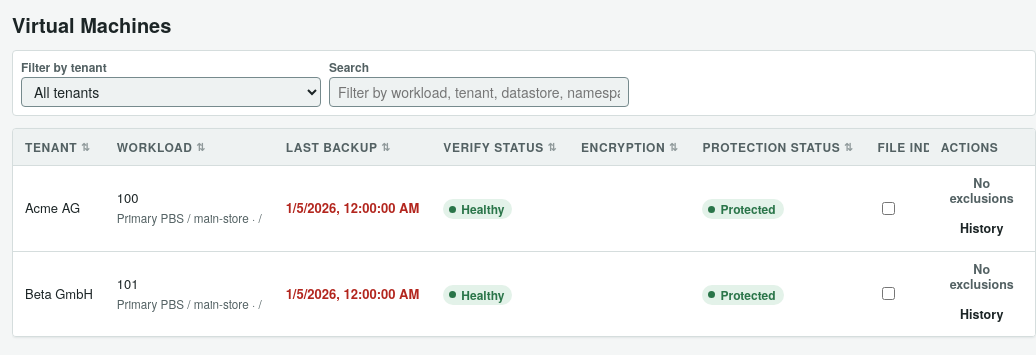
Test: ProtectedWorkloadsPage › filters rows by a free-text search across workload, customer, and datastore
The image size is (1036, 355).
Check: the text "100" is shown, box [117,188,138,207]
Check: the text "101" is shown, box [117,274,138,293]
In the field labelled "Search": {"x": 479, "y": 92} [329,77,629,107], type "100"
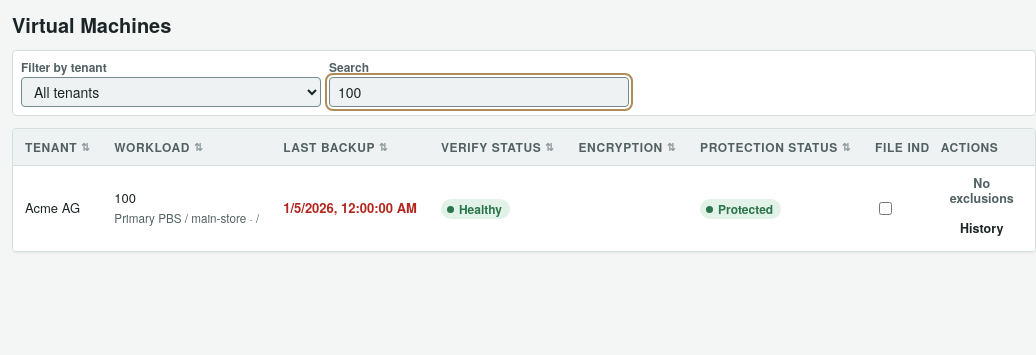
Check: the text "100" is shown, box [114,188,136,207]
Check: the text "101" is gone
